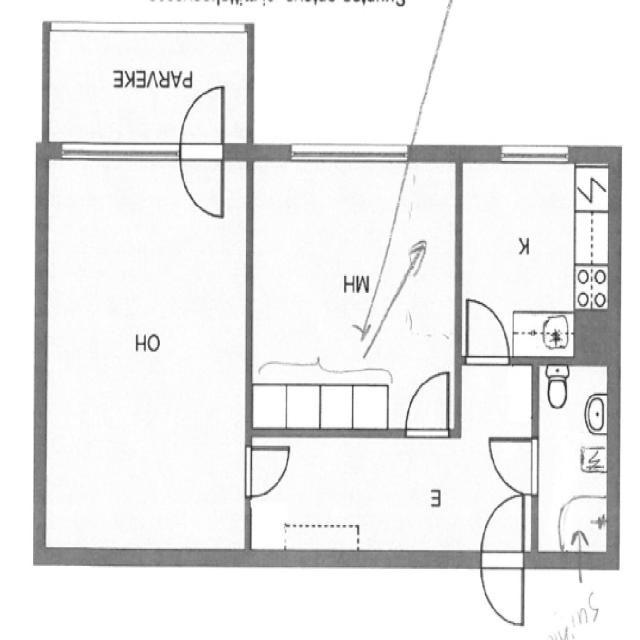door: (474, 492, 530, 629), (176, 81, 228, 222), (482, 432, 541, 500), (460, 295, 514, 369), (400, 365, 452, 440), (240, 437, 295, 501)
window: (286, 136, 407, 170), (58, 142, 182, 167), (496, 140, 575, 168)
zone: (42, 146, 256, 550), (250, 152, 459, 436), (244, 430, 501, 560), (459, 160, 610, 358), (536, 359, 610, 557)
